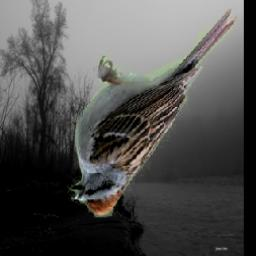Sparrow: (67, 8, 237, 218)
